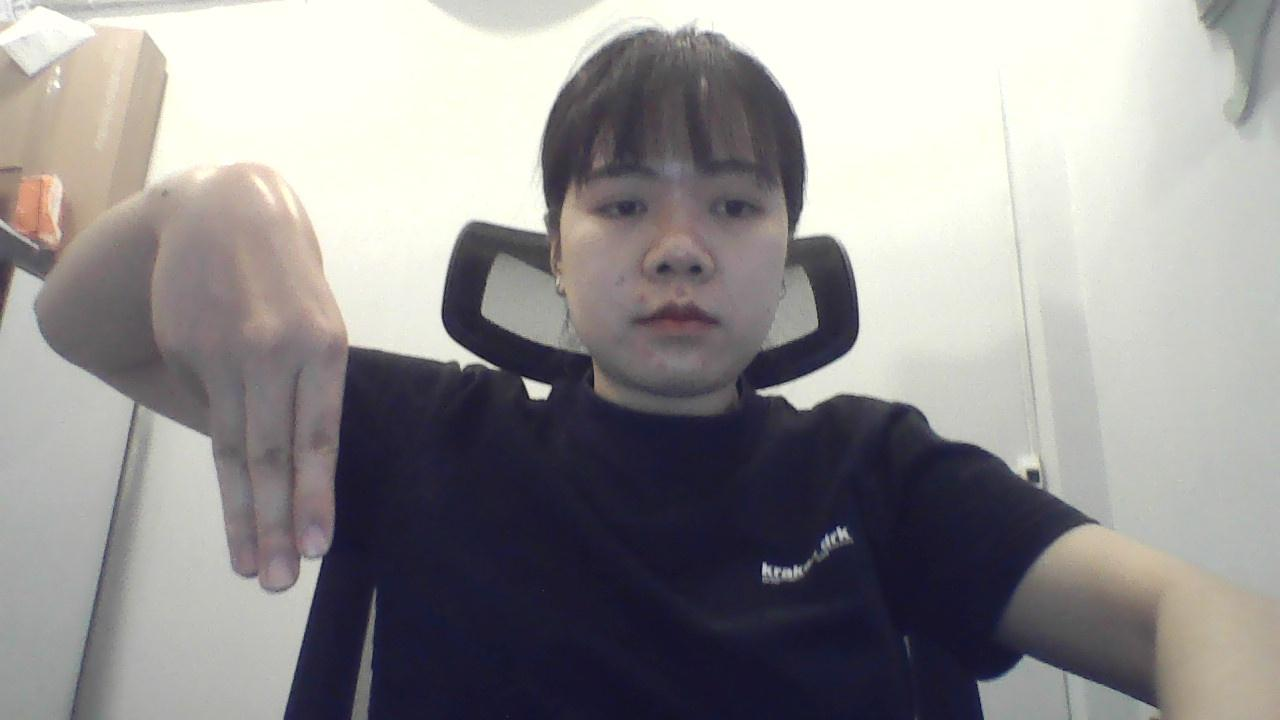M: (139, 149, 366, 610)
